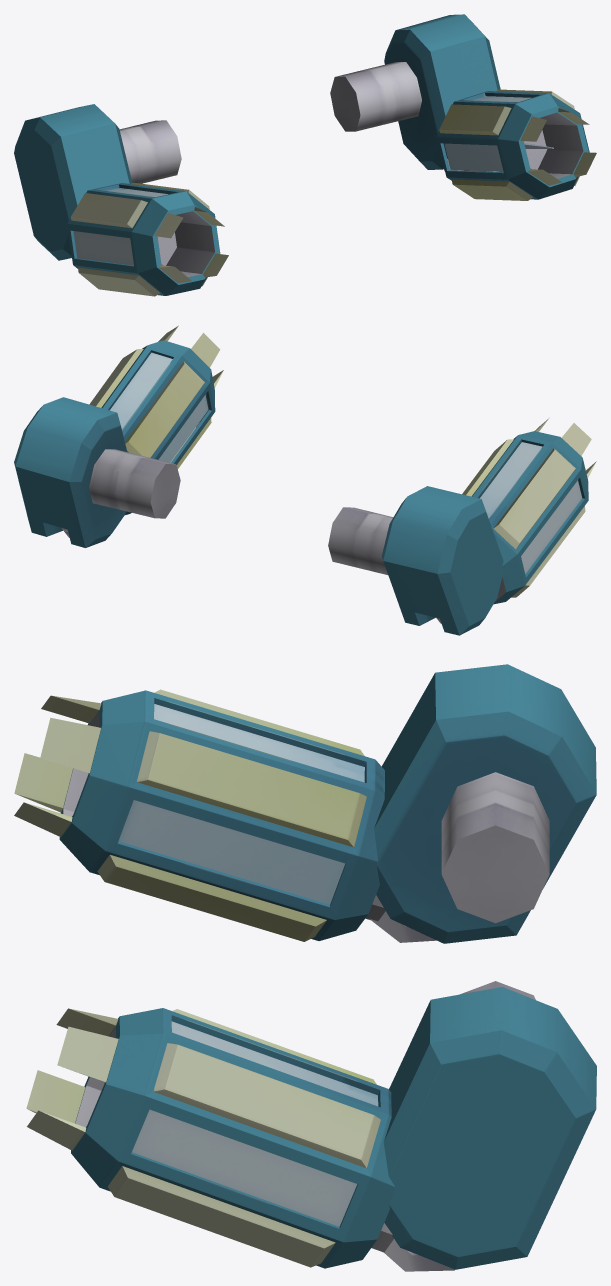
Rendered from player_arm_attack3.obj.
The picture shows the model from 3 angles, top to bottom: view 1: azimuth 30°, elevation 25°; view 2: azimuth 150°, elevation 25°; view 3: azimuth 270°, elevation 25°; orthographic projection. The views are drawn at different scales.
Visible parts, largest first — view 1: Object009, Object010, Object007, Object008, Object005, Object006; view 2: Object007, Object009, Object008, Object010, Object005, Object006; view 3: Object009, Object010, Object008, Object007, Object006.
Part boxes in pixels (bbox=[...]): Object009: bbox=[67, 182, 228, 296]; Object010: bbox=[436, 89, 596, 200]; Object007: bbox=[14, 104, 132, 260]; Object008: bbox=[384, 14, 500, 169]; Object005: bbox=[330, 62, 421, 131]; Object006: bbox=[119, 120, 181, 183]; Object007: bbox=[382, 486, 503, 635]; Object009: bbox=[436, 417, 596, 623]; Object008: bbox=[14, 397, 127, 547]; Object010: bbox=[61, 325, 223, 537]; Object005: bbox=[89, 449, 180, 518]; Object006: bbox=[328, 507, 393, 574]; Object009: bbox=[14, 689, 436, 942]; Object010: bbox=[26, 1008, 454, 1271]; Object008: bbox=[383, 987, 596, 1269]; Object007: bbox=[374, 664, 596, 943]; Object006: bbox=[441, 772, 549, 923].
Bounding box in the file's own units: 176 × 52.34 × 109.
2 materials, 1 textured.
